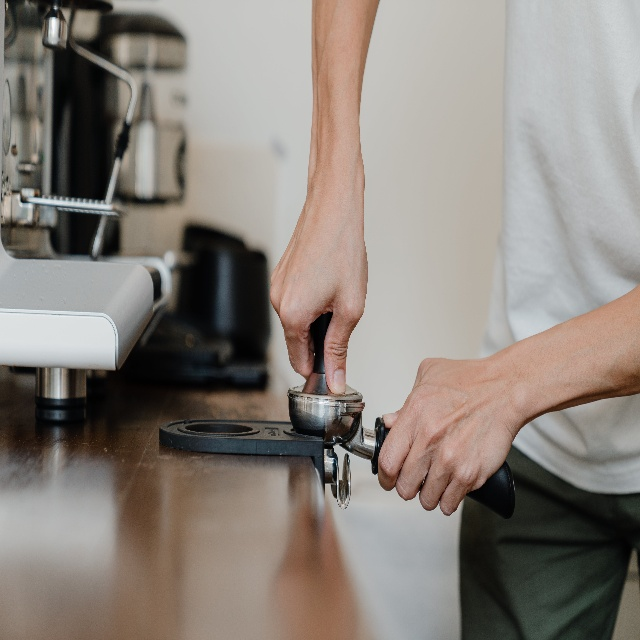Sin_guantes: (272, 127, 369, 395), (377, 355, 523, 522)
